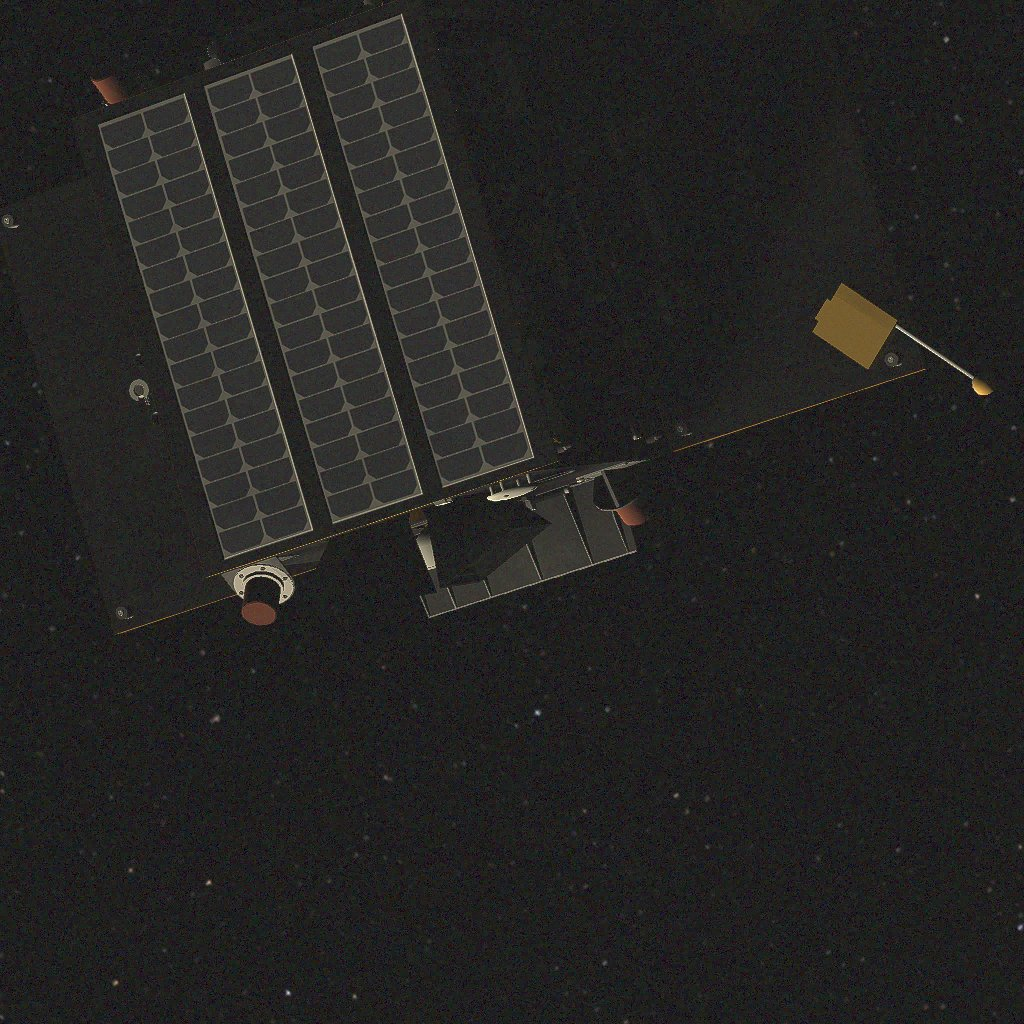proba_2: (28, 6, 987, 636)
